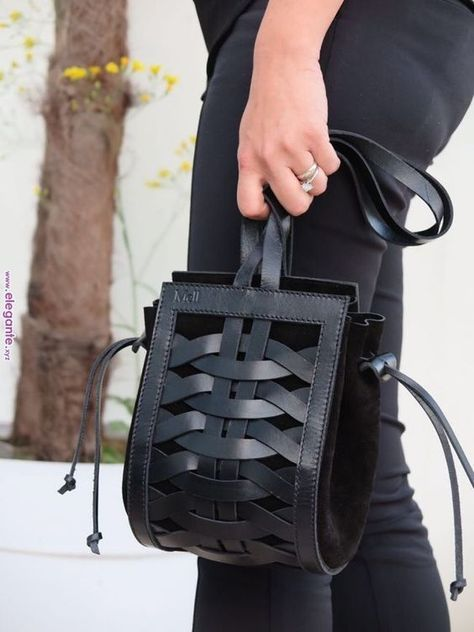cuero: (123, 131, 452, 577)
